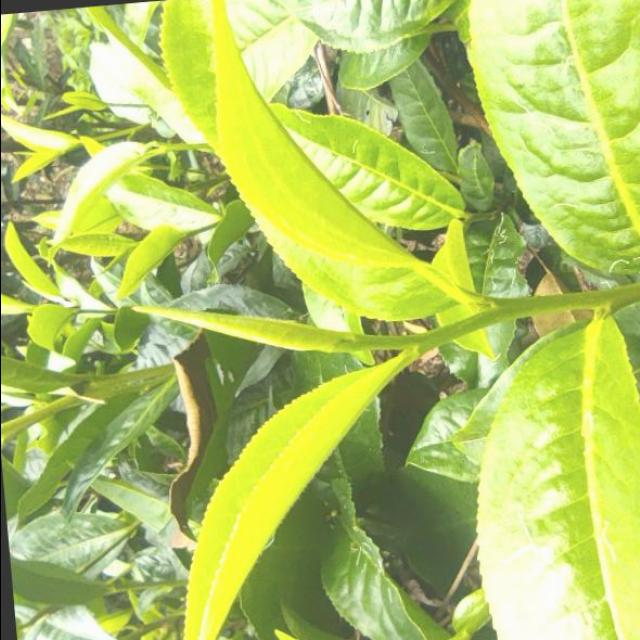Stem: (414, 334, 436, 351)
